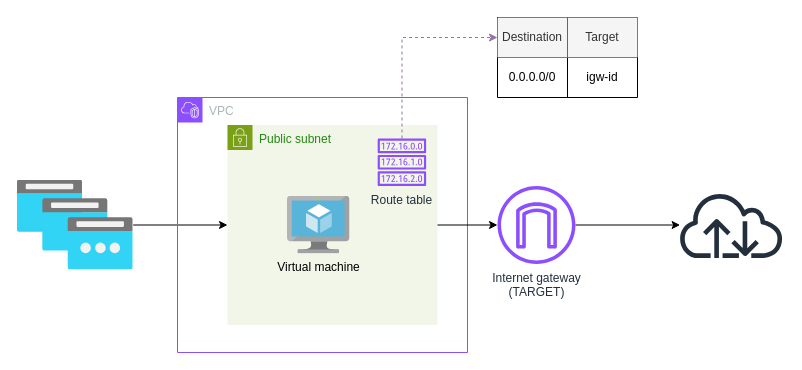
The diagram is 802 pixels wide and 370 high, and some of its shapes have lost their labels. The centre of each missing label's shape, as x and y in pixels:
"Incoming network traffic" belongs at pixel 75 225.
"Public internet (DESTINATION)" belongs at pixel 730 225.
